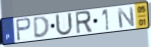1: (101, 8, 111, 32)
D: (32, 15, 51, 39)
N: (116, 6, 136, 30)
P: (15, 17, 33, 42)
R: (74, 10, 94, 36)
U: (54, 12, 75, 37)
